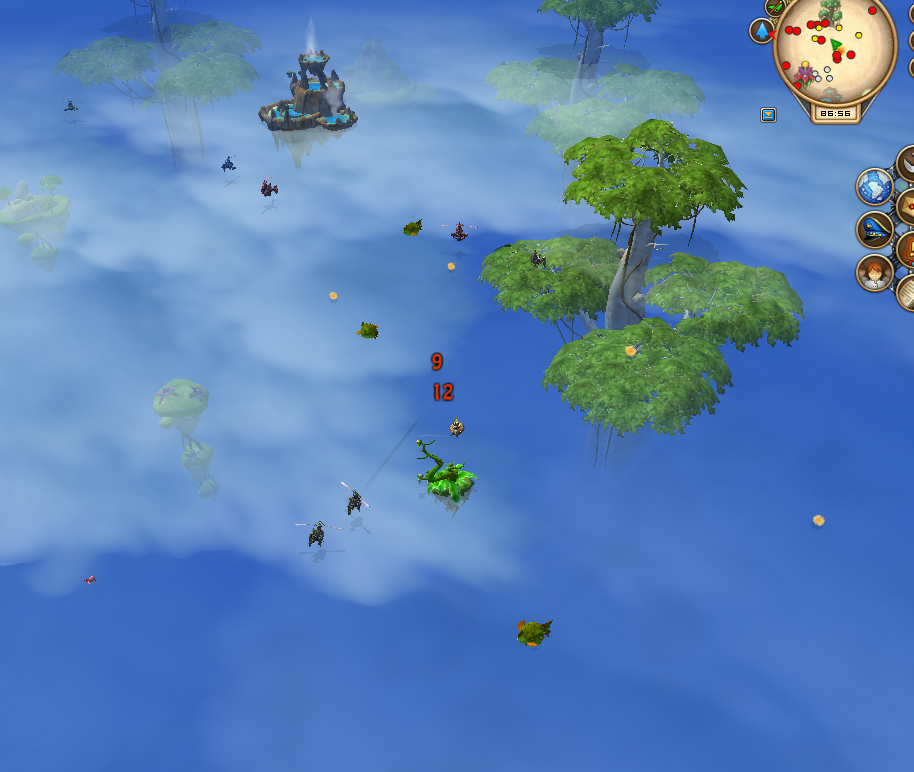dandelion-empty: (409, 433, 484, 517)
fluff: (808, 507, 829, 531), (323, 287, 342, 303), (445, 257, 456, 273)
